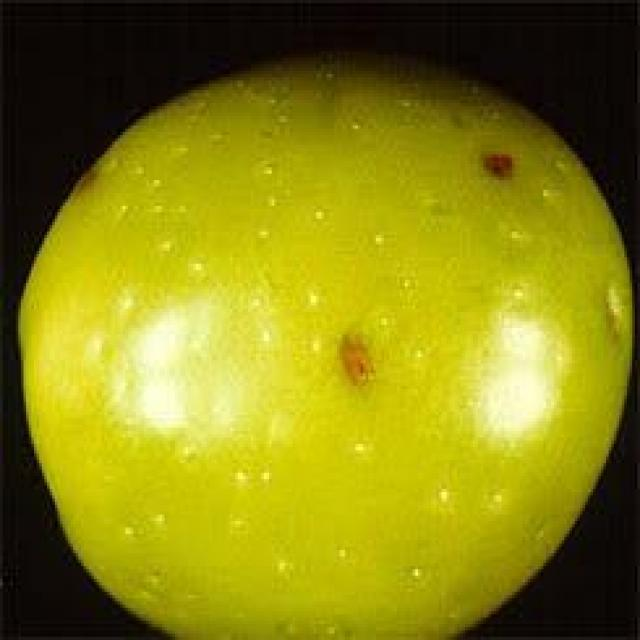Anthracnose: (21, 58, 601, 637)
